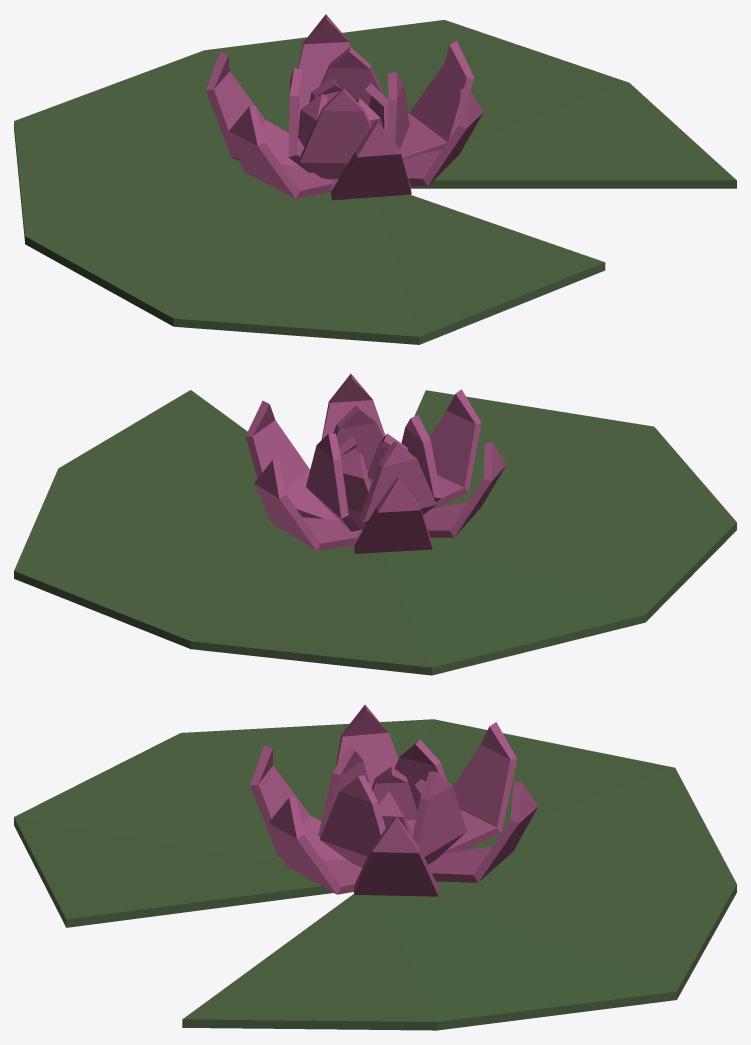
The model's file is Lilypad.gltf.
The picture shows the model from 3 angles, top to bottom: view 1: azimuth 30°, elevation 25°; view 2: azimuth 150°, elevation 25°; view 3: azimuth 270°, elevation 25°; orthographic projection. The views are drawn at different scales.
Visible parts, largest first — view 1: Lilypad; view 2: Lilypad; view 3: Lilypad.
Part boxes in pixels (bbox=[...]): Lilypad: bbox=[14, 14, 736, 344]; Lilypad: bbox=[14, 374, 736, 675]; Lilypad: bbox=[14, 705, 736, 1030].
Bounding box in the file's own units: 1.2 × 0.2209 × 1.19.
